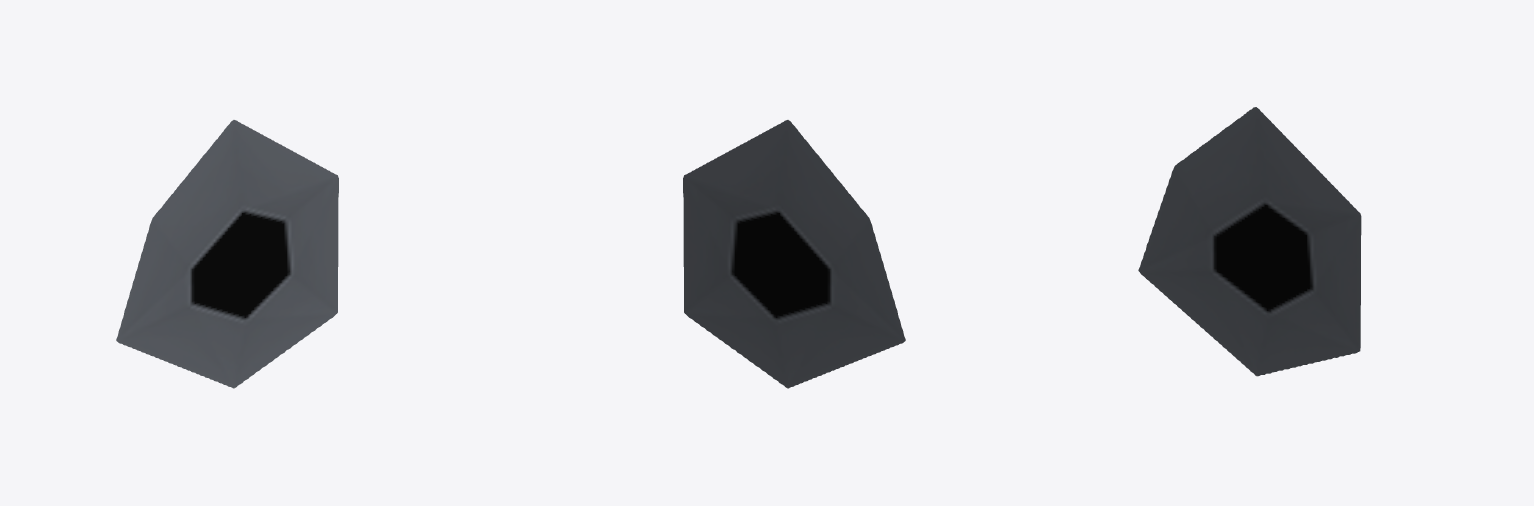
File: SM_Prop_Decal_Metal_05.fbx
3 views of the same model, side by side, from view 1: azimuth 30°, elevation 25°; view 2: azimuth 150°, elevation 25°; view 3: azimuth 330°, elevation 25° (orthographic).
Parts seen in each view (by area): view 1: SM_Prop_Decal_Metal_05; view 2: SM_Prop_Decal_Metal_05; view 3: SM_Prop_Decal_Metal_05.
Part boxes in pixels (x1,y1,x2,y2): SM_Prop_Decal_Metal_05: (116, 120, 338, 388); SM_Prop_Decal_Metal_05: (683, 120, 905, 388); SM_Prop_Decal_Metal_05: (1138, 107, 1361, 376).
Size of the model in its own units: 16.66 by 11.99 by 0.
